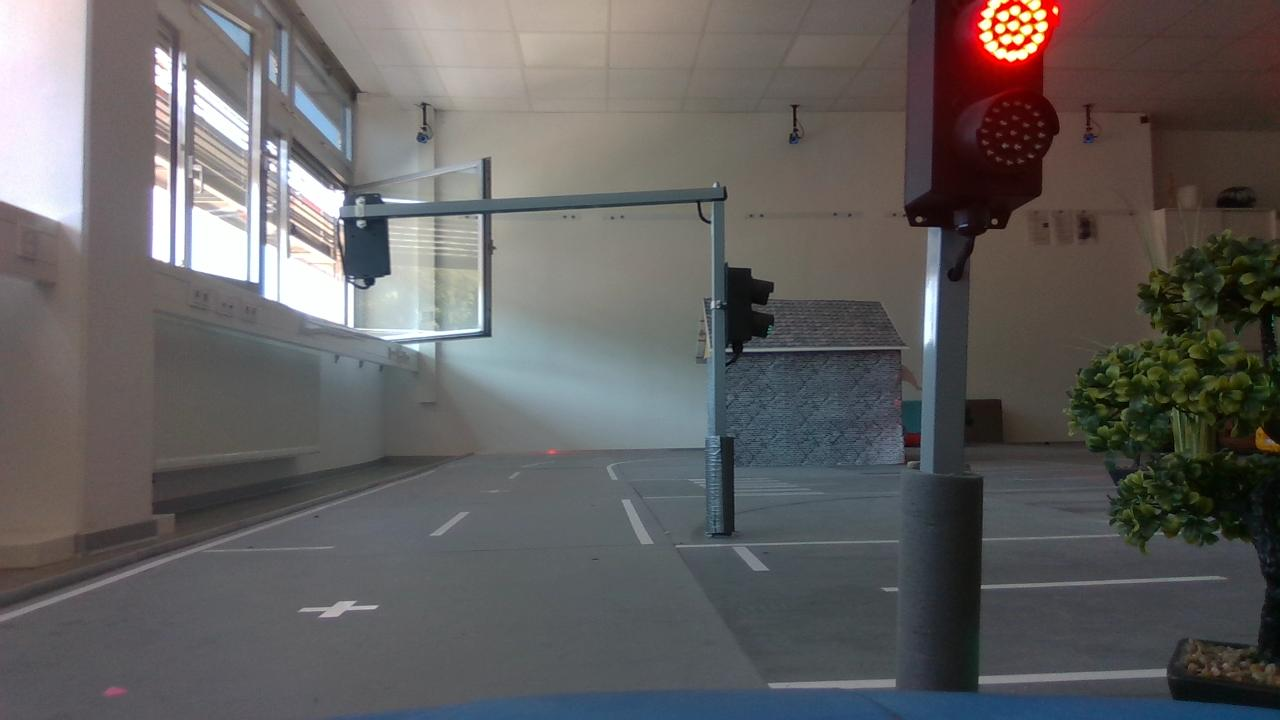traffic_light_red: (896, 1, 1085, 247)
